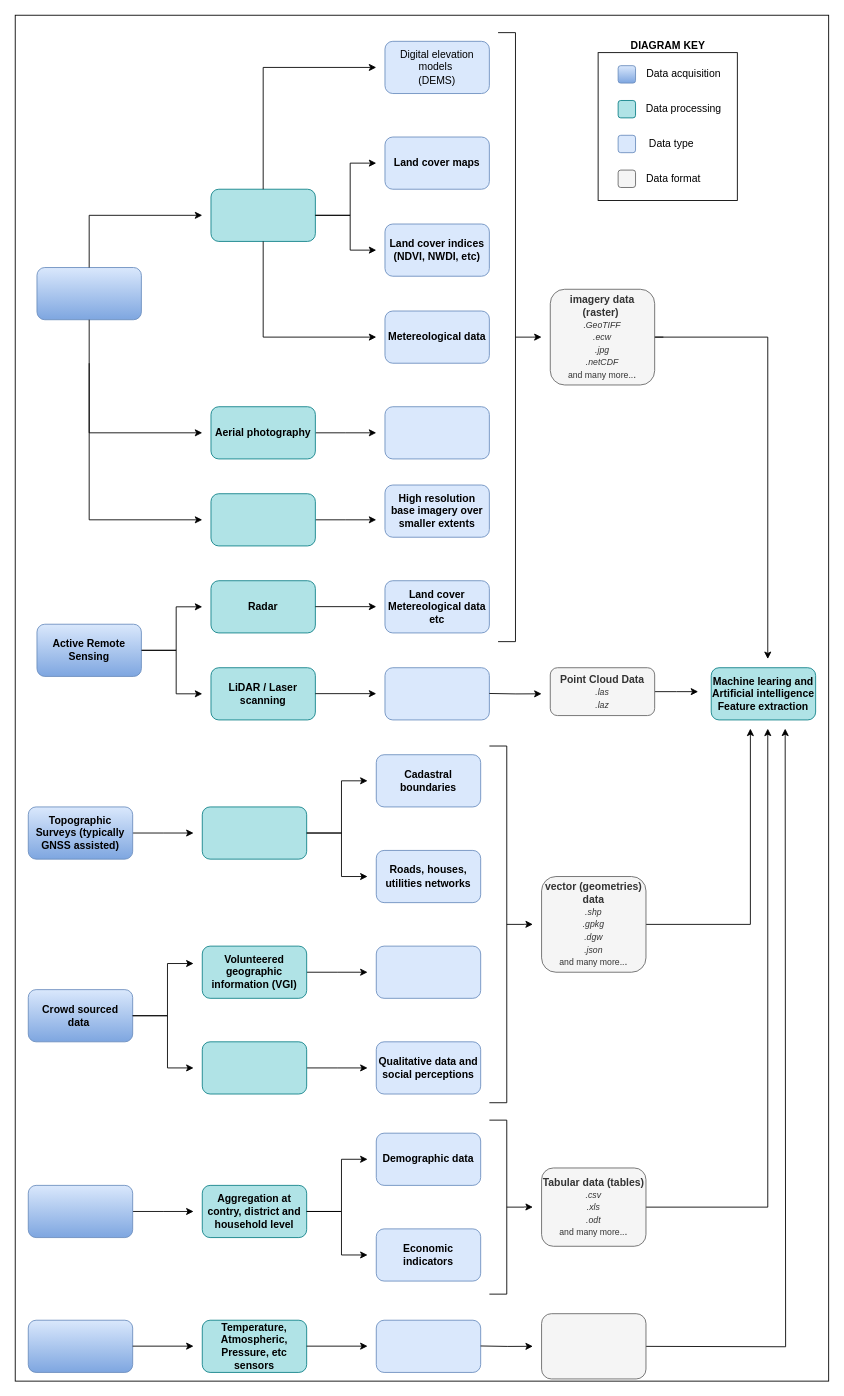
The diagram is 844 pixels wide and 1396 high, and some of its shapes have lost their labels. Each missing label, with the centre of its shape:
Census: (x=80, y=1211)
DEM ( Digital Elevation Models ) DSM ( Digital Surface Models ): (x=436, y=693)
Drone imagery: (x=262, y=519)
Environmental data: (x=428, y=1345)
High resolution base imagery over large extents: (x=436, y=432)
Human made and natural topographic elements: (x=428, y=971)
Human-mande topographic elements (very high precision): (x=254, y=832)
Passive Remote sensing: (x=88, y=293)
Satellite imagery: (x=262, y=214)
Sensor data: (x=80, y=1345)
Social media and media repositories APIs: (x=254, y=1067)
Tabular data (tables) .csv .json and many more.. .: (x=593, y=1346)
